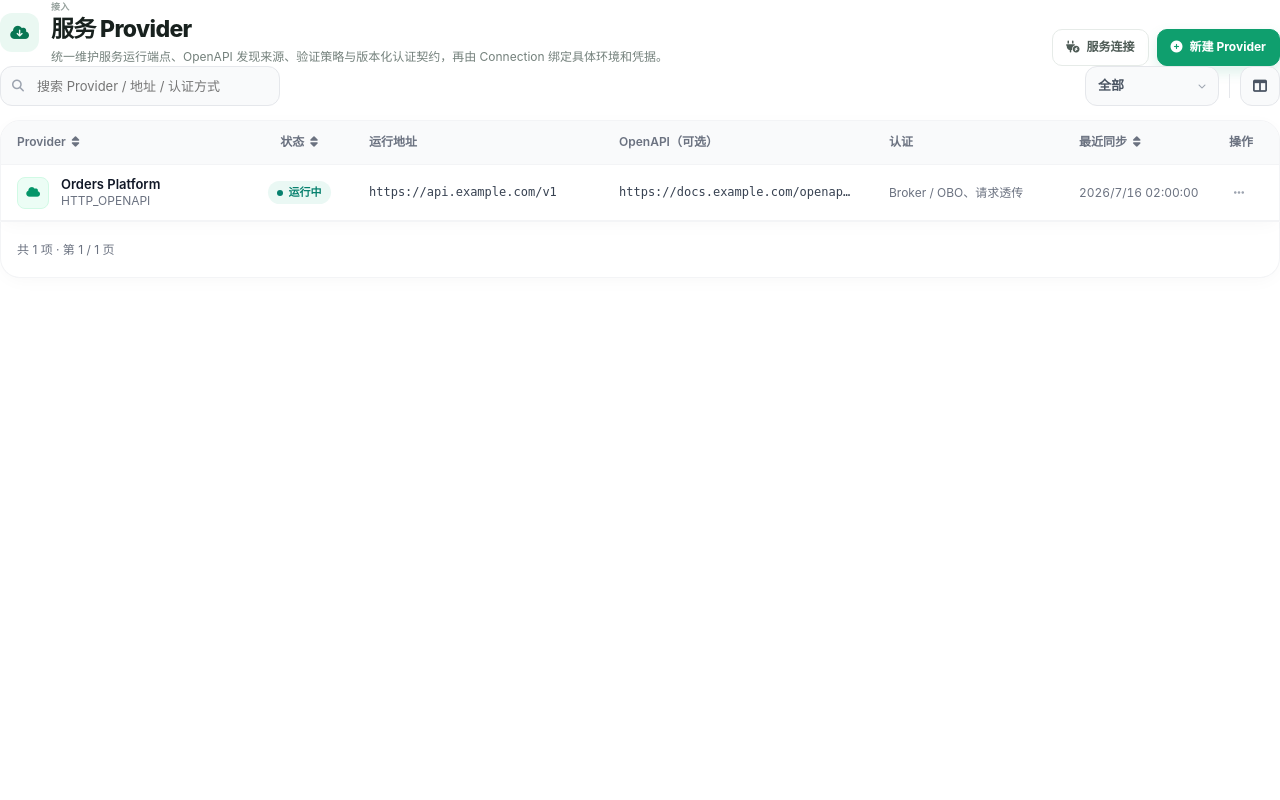
Scenario: providers management view › shows dual-support badges and layered identity copy without Connection multi-strategy wording
Click the button with test id "provider-create" at (1218, 47), box [1157,29,1279,66]
(page scrolled)
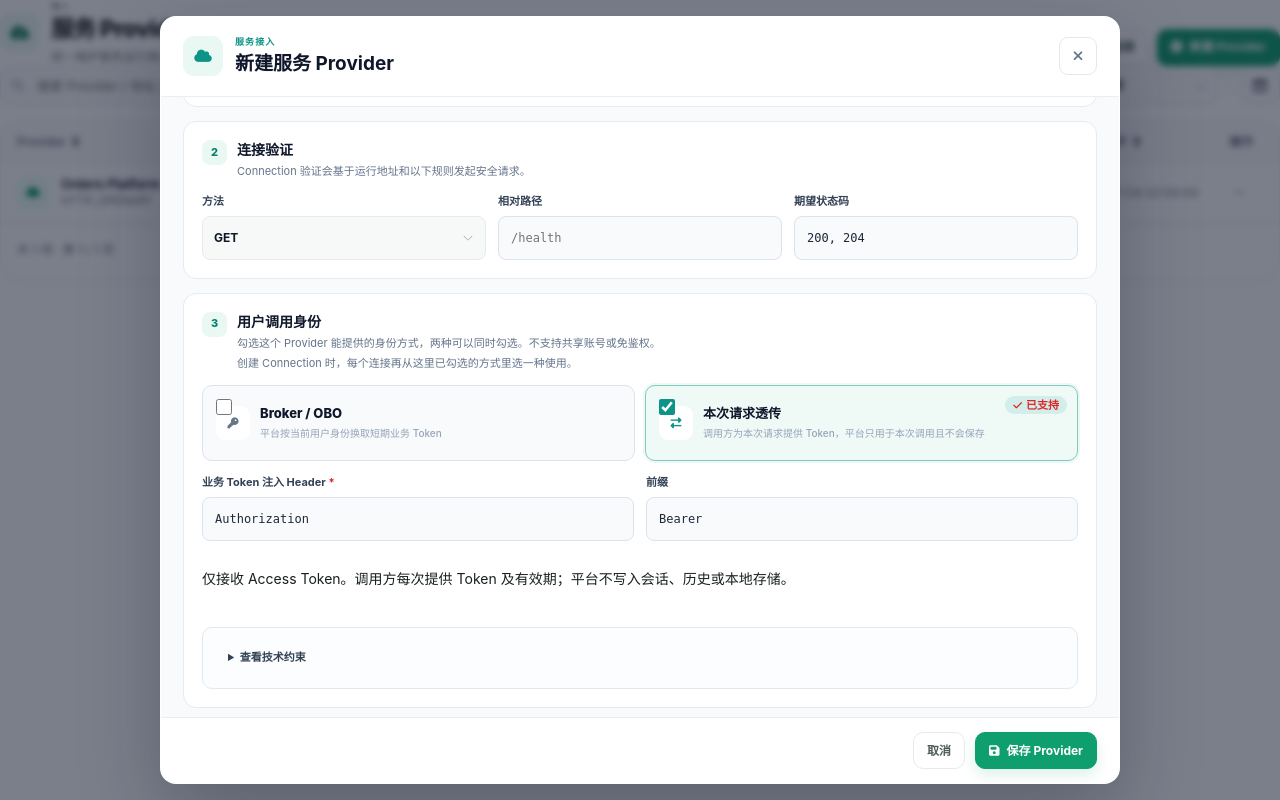
Now the element with test id "provider-outbound-identity" shows "用户调用身份", box [237,313,321,330]
Now the element with test id "provider-outbound-identity" shows "可以同时勾选", box [237,336,661,350]
Now the element with test id "provider-outbound-identity" shows "每个连接", box [237,356,578,370]
Click the checkbox with test id "provider-mode-broker" at (224, 407), box [216,399,232,415]
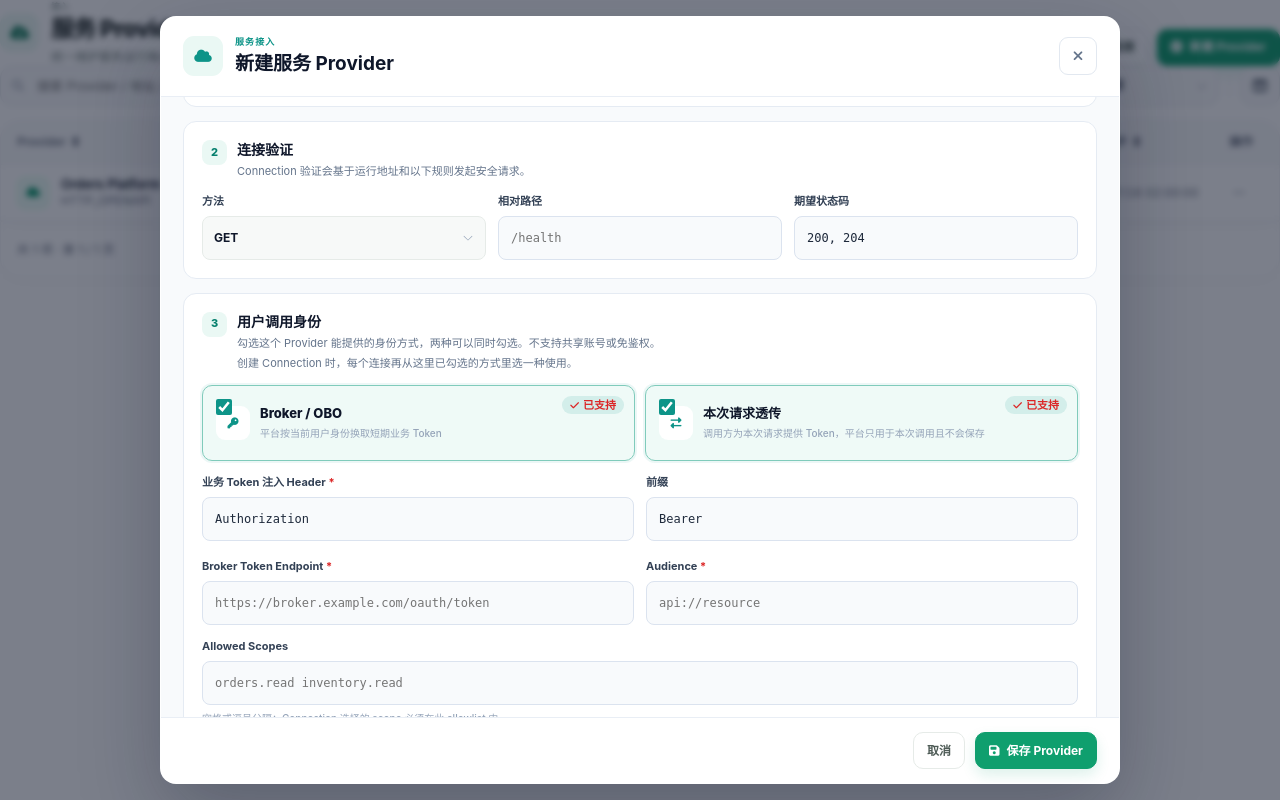
Now the element with test id "provider-broker-fields" is shown, box [202,555,1078,717]
Click the checkbox with test id "provider-mode-broker" at (224, 407), box [216,399,232,415]
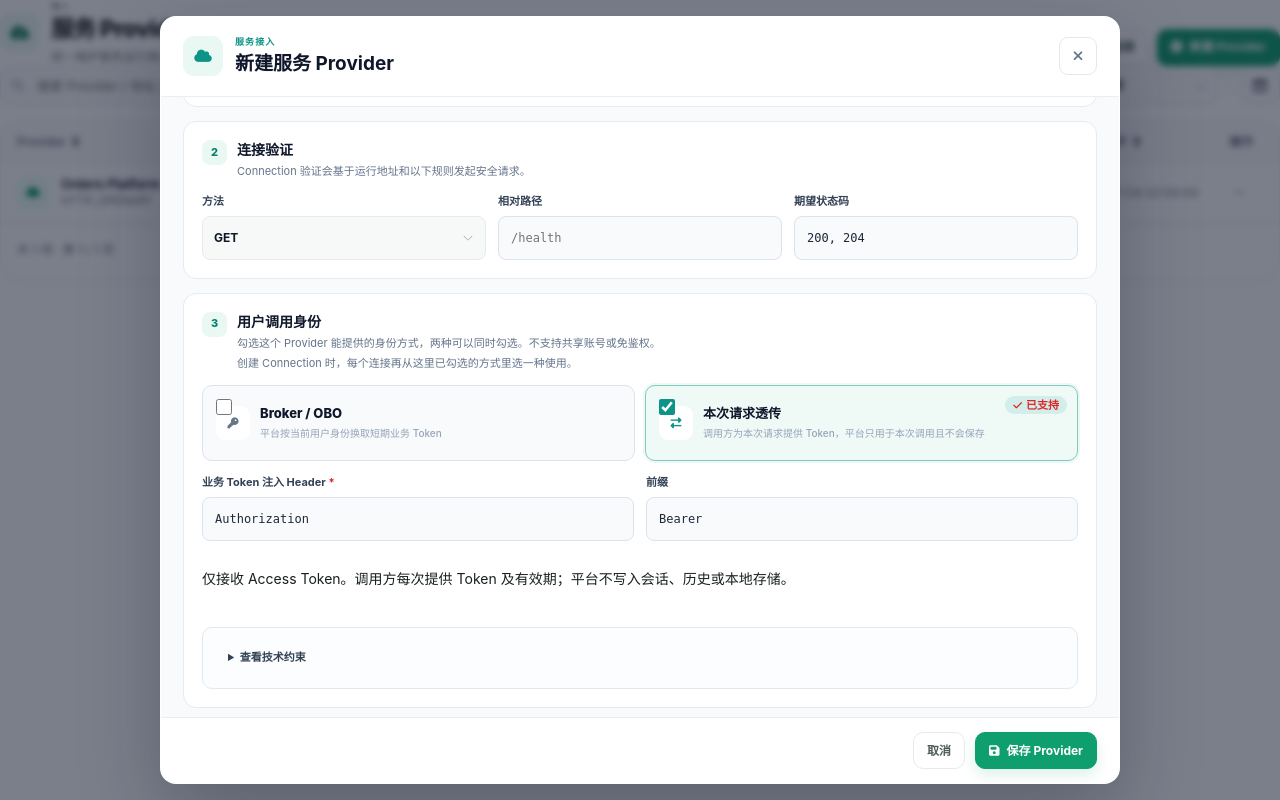
Now the checkbox with test id "provider-mode-passthrough" is checked, box [659,399,675,415]
Now the element with test id "provider-identity-tech-details" reads "查看技术约束", box [240,650,306,664]
